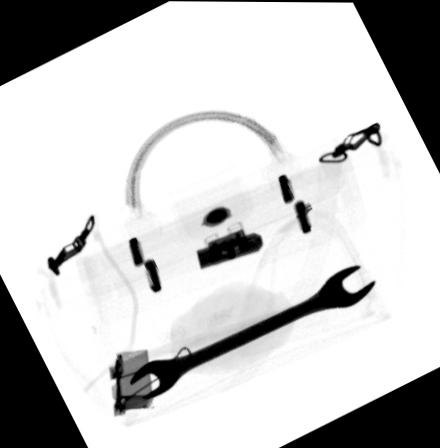Wrench: (126, 261, 376, 402)
